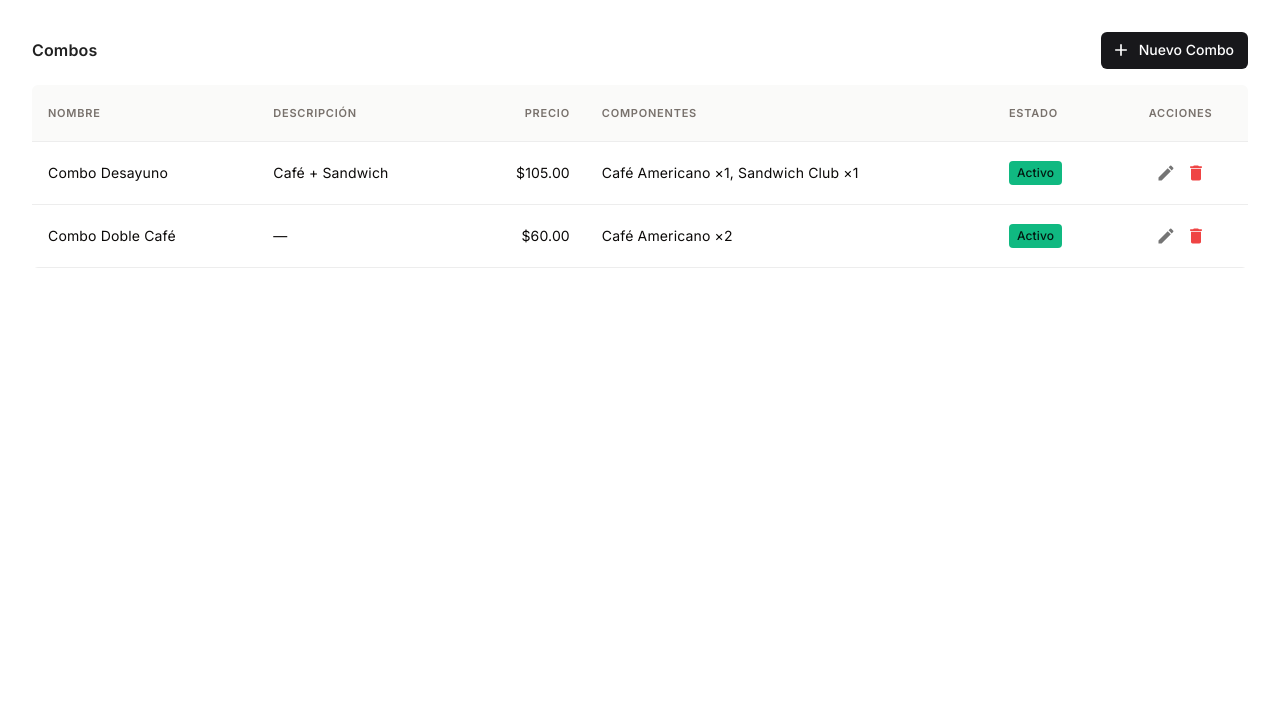
it: ComboList › confirms delete and closes dialog
This screenshot has width=1280, height=720.
Check: the text "Combo Desayuno" is shown, box [32,141,257,204]
Click the button named "eliminar Combo Desayuno" at (1196, 172), box [1181,158,1211,188]
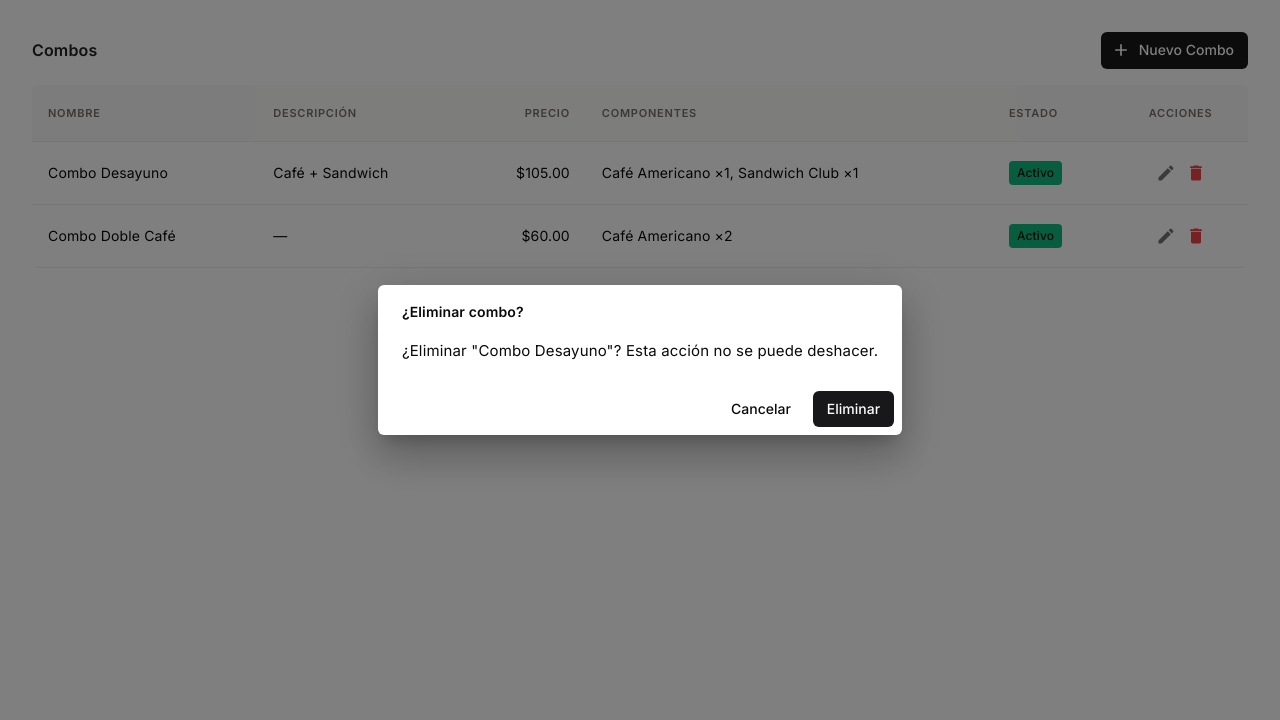
Click the button "Eliminar" at (854, 409), box [813,391,894,427]
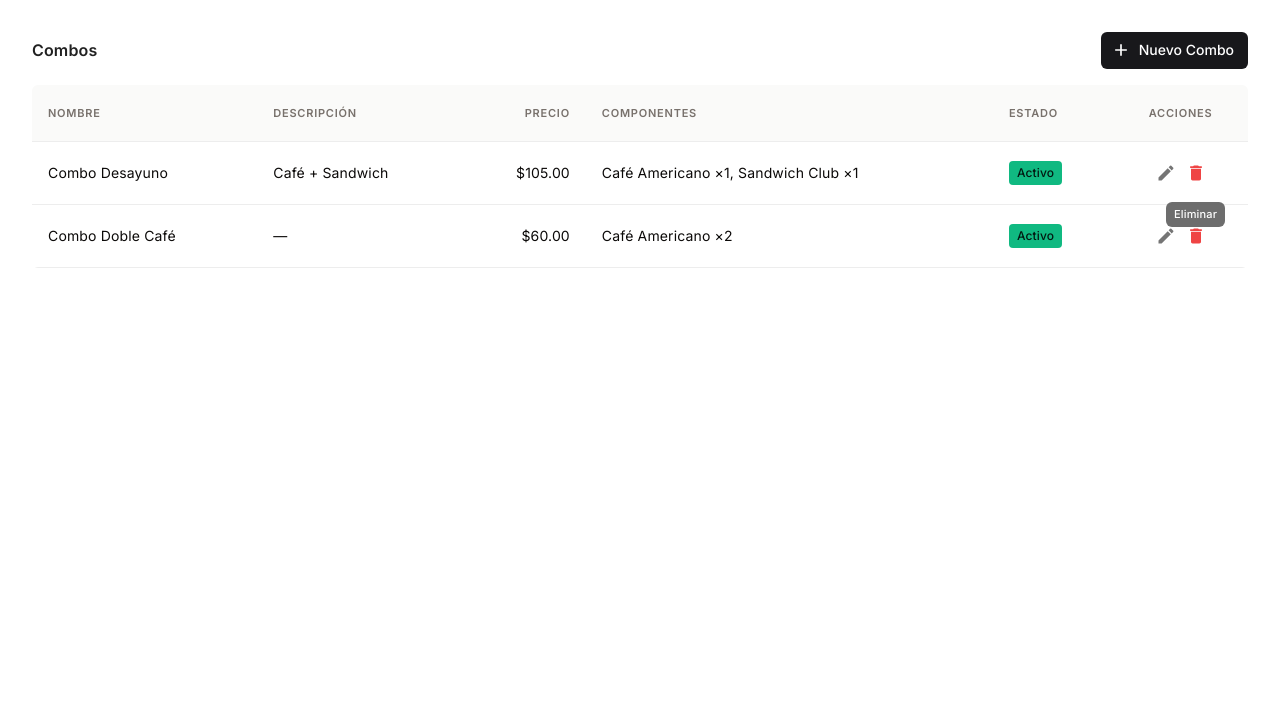
Check: the dialog is gone
